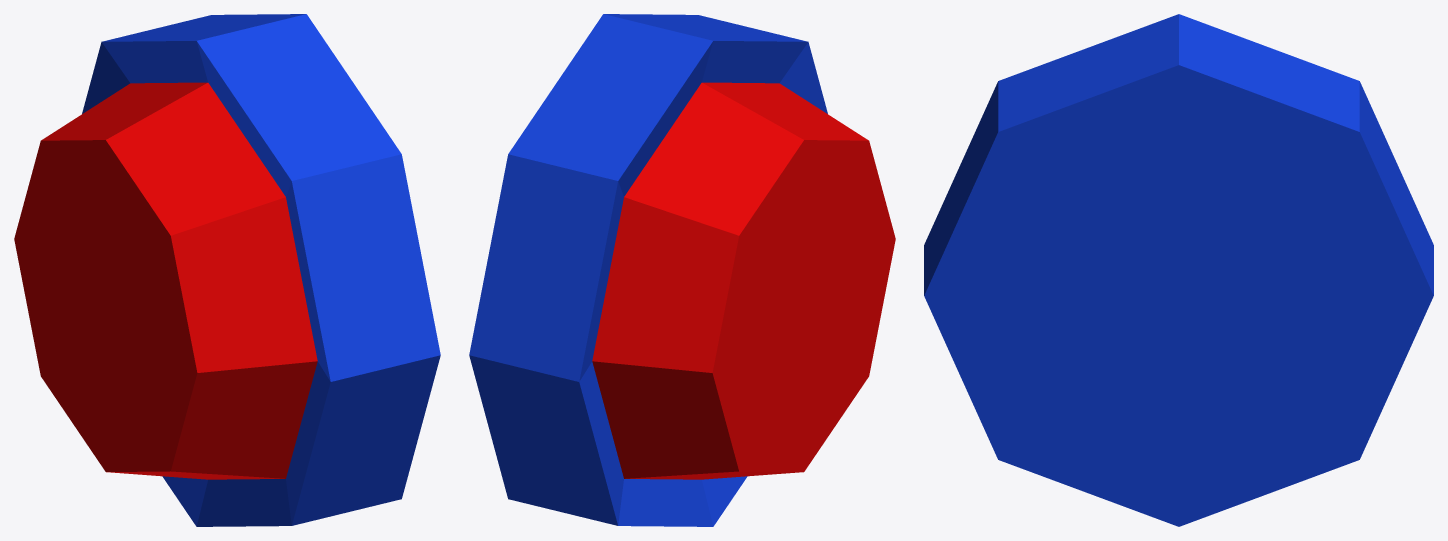
File: button.glb
3 renders of one model, left to right at view 1: azimuth 30°, elevation 25°; view 2: azimuth 150°, elevation 25°; view 3: azimuth 270°, elevation 25°, orthographic. The views are drawn at different scales.
Parts seen in each view (by area): view 1: Cube.001; view 2: Cube.001; view 3: Cube.001.
Part boxes in pixels (box(x1,y1,x2,y2)): Cube.001: box(14, 14, 440, 526); Cube.001: box(469, 14, 895, 526); Cube.001: box(924, 14, 1433, 526).
Bounding box in the file's own units: 0.189 × 0.437 × 0.437.
